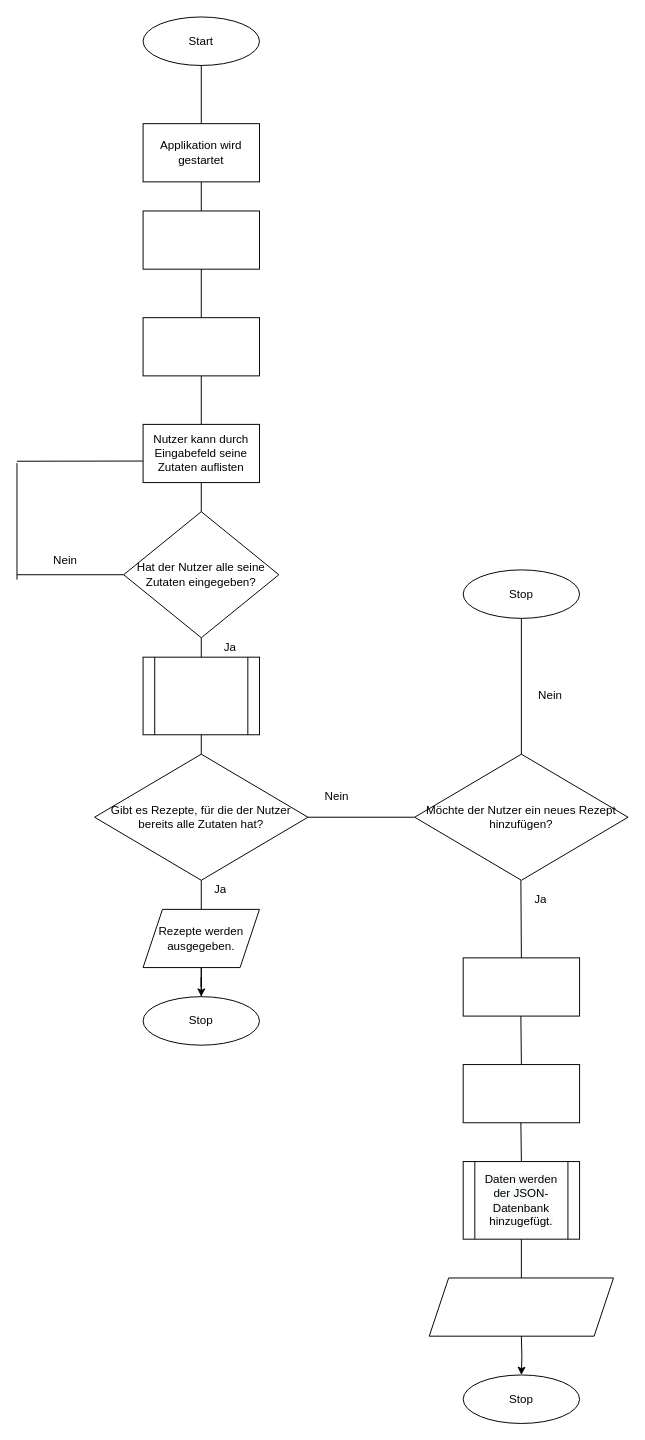
The diagram is 645 pixels wide and 1440 high, and some of its shapes have lost their labels. Here are the shapes that lost their labels. From the top down, the centre of each, then its label:
At point (200, 239): "Alle Rezepte in der Datenbank werden angezeigt".
At point (200, 346): "Nutzer klickt in der Navigation auf Search Recipe".
At point (200, 695): "Die Zutaten werden mit den Rezepten abgeglichen".
At point (521, 986): "Nutzer klickt in der Navigation auf Add a new Recipe".
At point (521, 1093): "Nutzer kann durch Eingabefeld sein Rezept eingeben".
At point (521, 1306): "Neue Rezepte sind nun in My Recipe Book ersichtlich".
